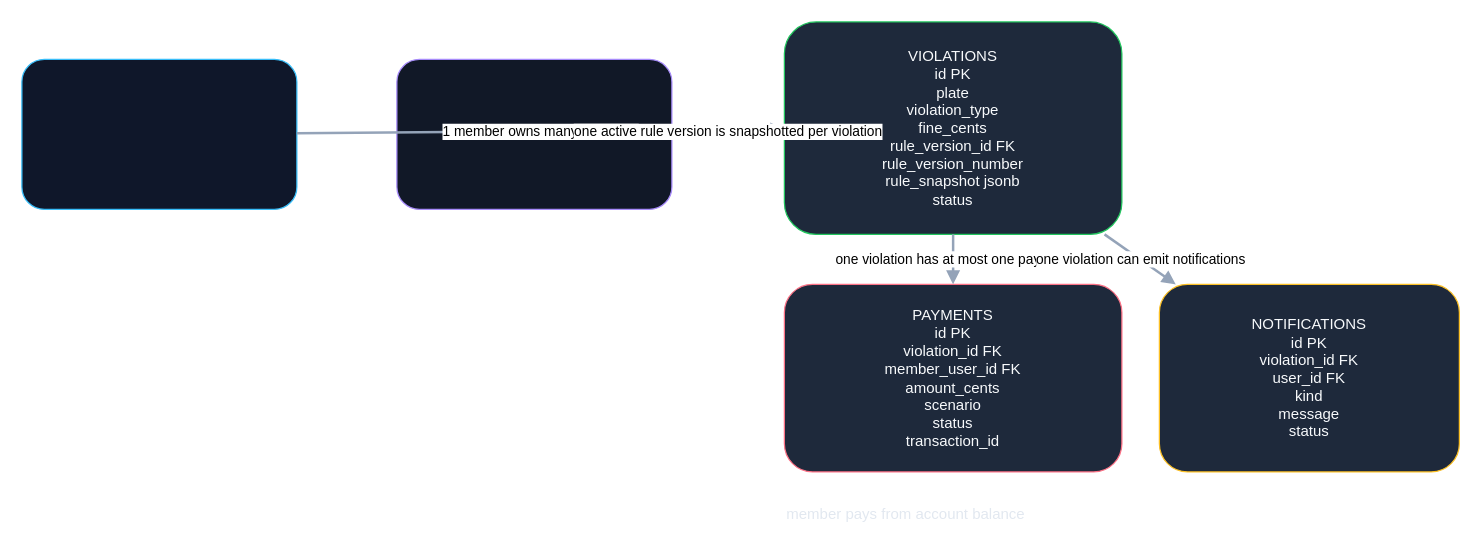
Some shapes in this 1481 by 556 pixel diagram are drawn without their labels. Each missing label, with the centre of its shape:
RULE_VERSIONS id PK version UK active rules jsonb: the point at 534,133
USERS id PK name role plate balance_cents: the point at 159,133
